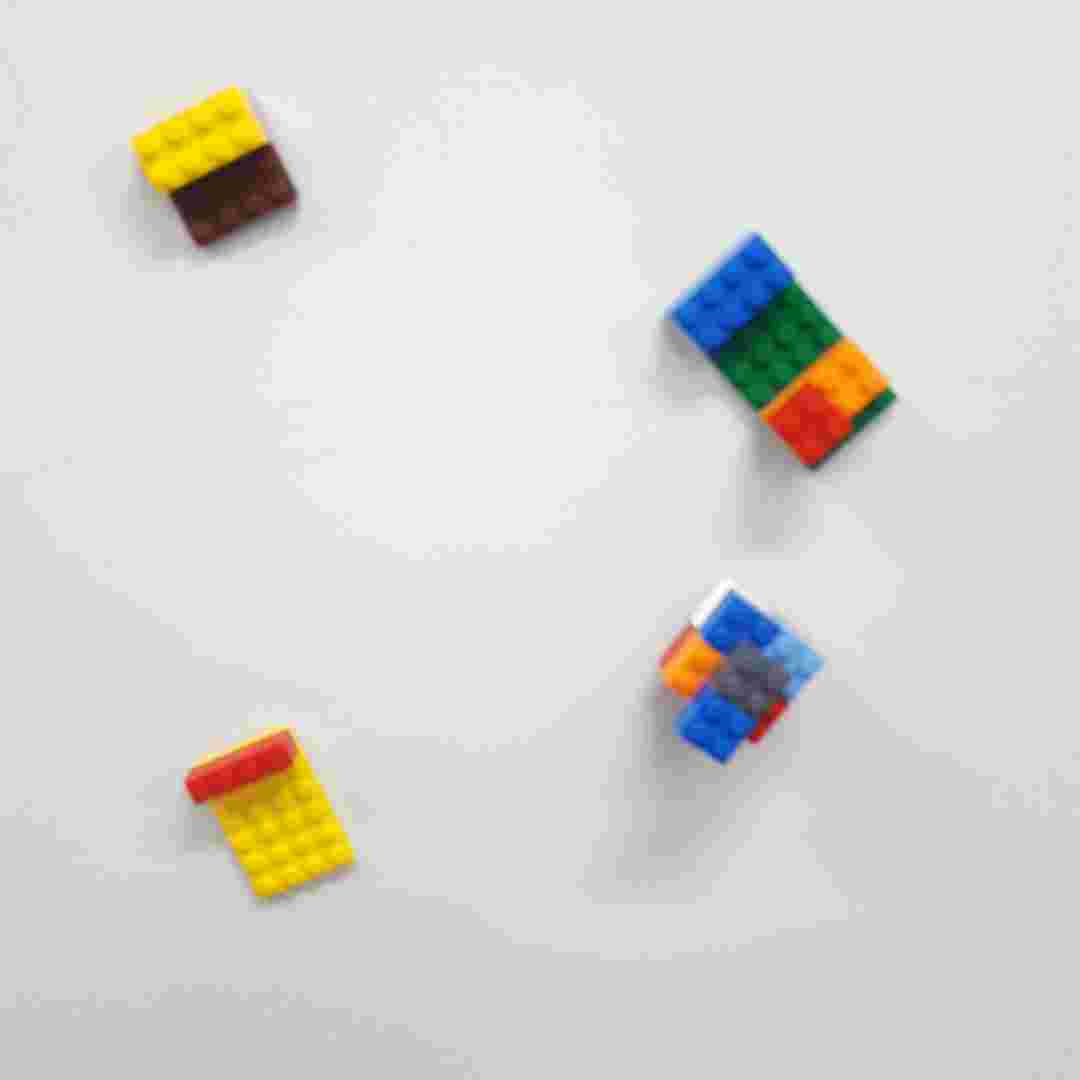LEGO: (655, 226, 900, 471), (657, 569, 834, 772), (186, 719, 365, 905), (128, 76, 309, 251)
